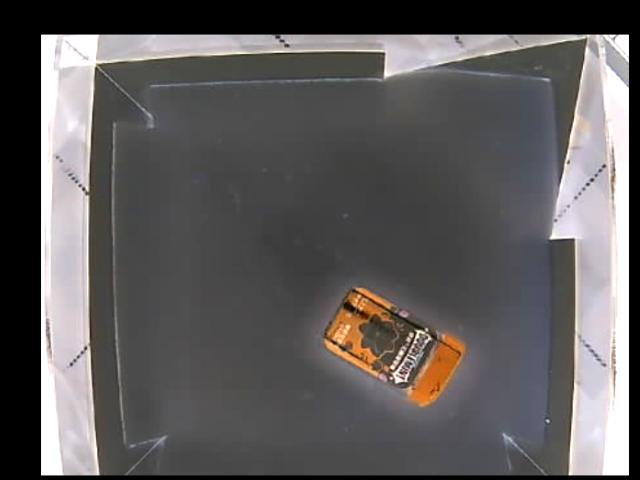Bottle: (320, 289, 469, 408)
